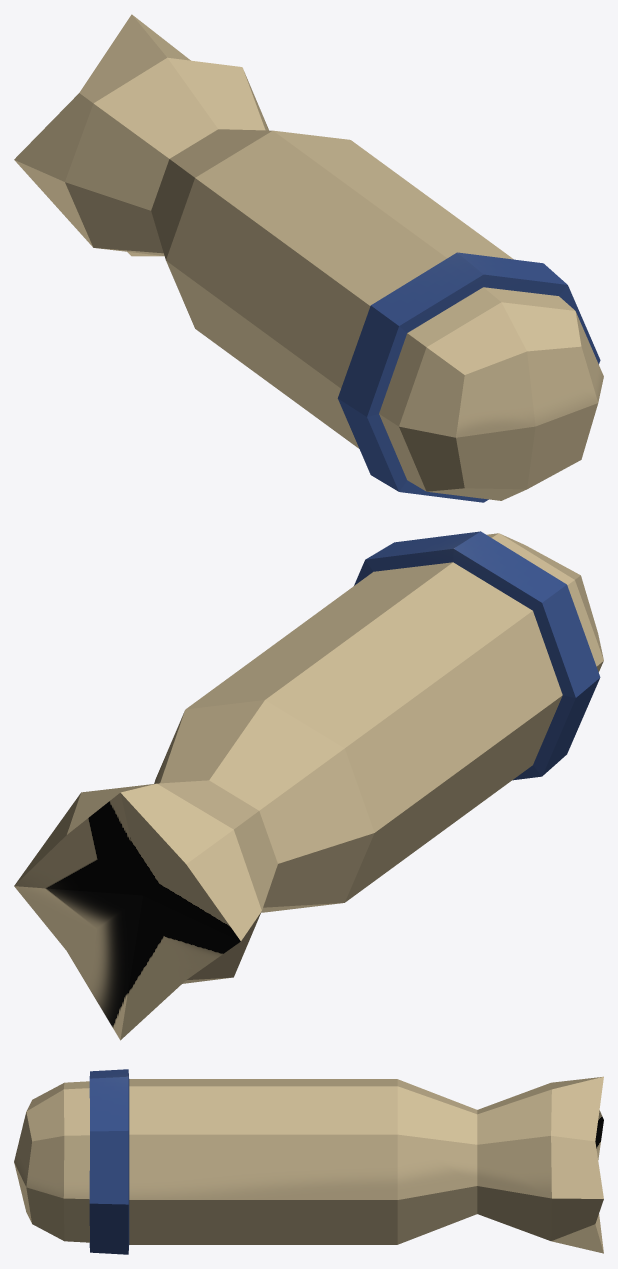
The model's file is missile.glb.
3 renders of one model, top to bottom at view 1: azimuth 30°, elevation 25°; view 2: azimuth 150°, elevation 25°; view 3: azimuth 270°, elevation 25°, orthographic. The views are drawn at different scales.
Parts seen in each view (by area): view 1: Missile; view 2: Missile; view 3: Missile.
Boxes of the visible parts, bbox=[...] form: Missile: bbox=[14, 14, 603, 502]; Missile: bbox=[14, 531, 603, 1040]; Missile: bbox=[14, 1069, 603, 1254].
Size of the model in its own units: 1.1 by 1.06 by 3.21.
1 material, 1 textured.
